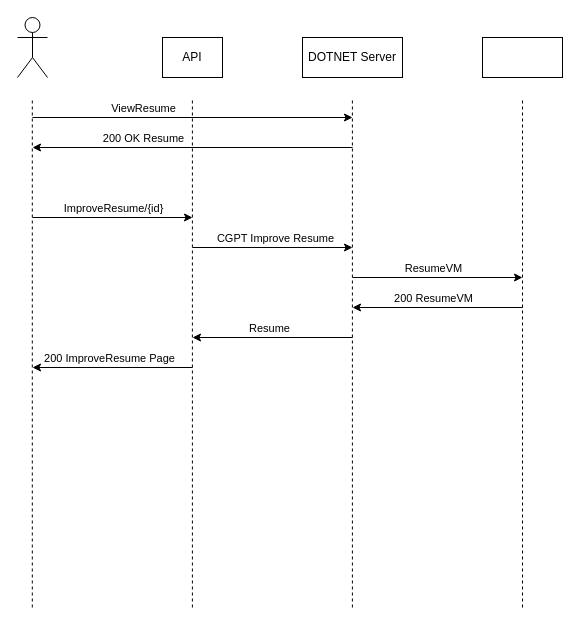
The diagram is 580 pixels wide and 626 high, and some of its shapes have lost their labels. The box of each missing label's shape, as (x1, y1, x2, y2) in pixels:
ChatGPT: (482, 36, 562, 78)
Client: (16, 16, 48, 78)
